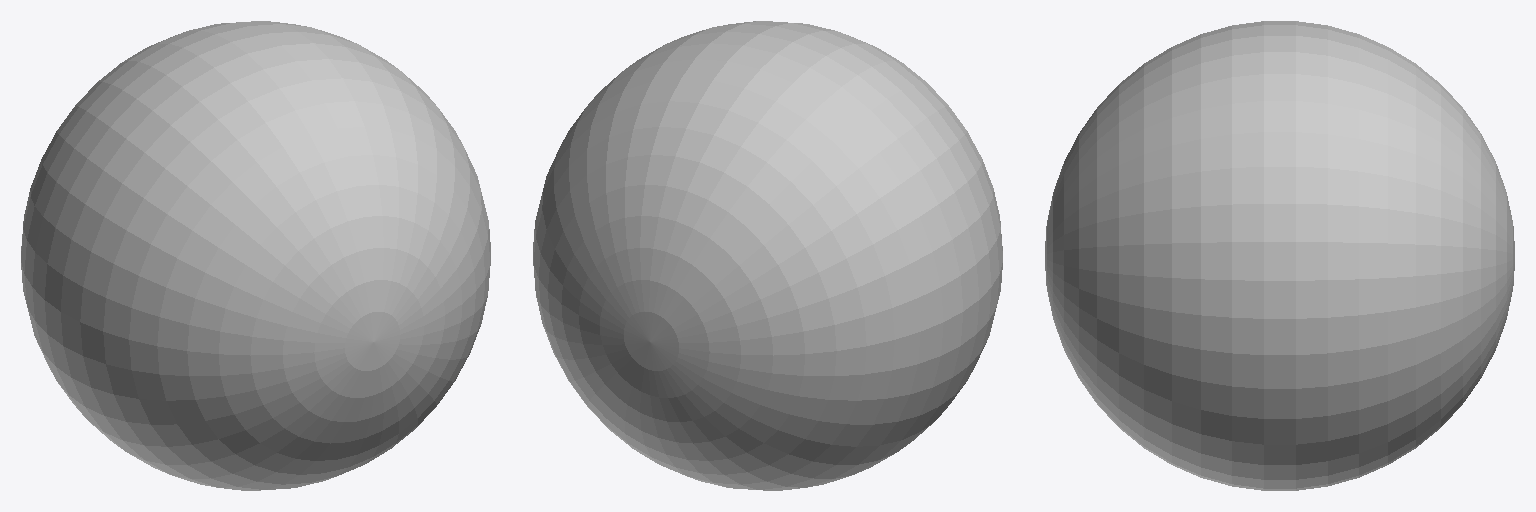
The model's file is UVBall.obj.
3 views of the same model, side by side, from view 1: azimuth 30°, elevation 25°; view 2: azimuth 150°, elevation 25°; view 3: azimuth 270°, elevation 25° (orthographic).
Visible parts, largest first — view 1: Sphere; view 2: Sphere; view 3: Sphere.
Boxes of the visible parts, x1,y1,x2,y2 form: Sphere: [21, 21, 490, 490]; Sphere: [533, 21, 1002, 490]; Sphere: [1045, 21, 1514, 490].
Bounding box in the file's own units: 2 × 1.99 × 2.